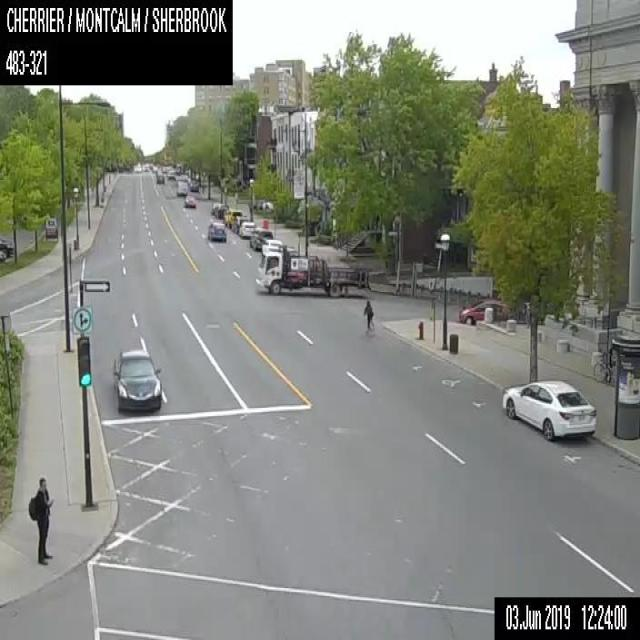bus: (176, 176, 187, 195)
cyclist: (362, 299, 375, 334)
pedestrian: (27, 477, 51, 563)
vehicle: (255, 238, 369, 297), (500, 378, 596, 442), (110, 346, 162, 411), (457, 295, 510, 324), (250, 227, 272, 250), (207, 221, 226, 241), (223, 208, 242, 227), (231, 214, 247, 233), (0, 237, 13, 259), (238, 221, 254, 237), (214, 202, 228, 218), (184, 194, 195, 207), (189, 180, 198, 190), (156, 173, 164, 182)
